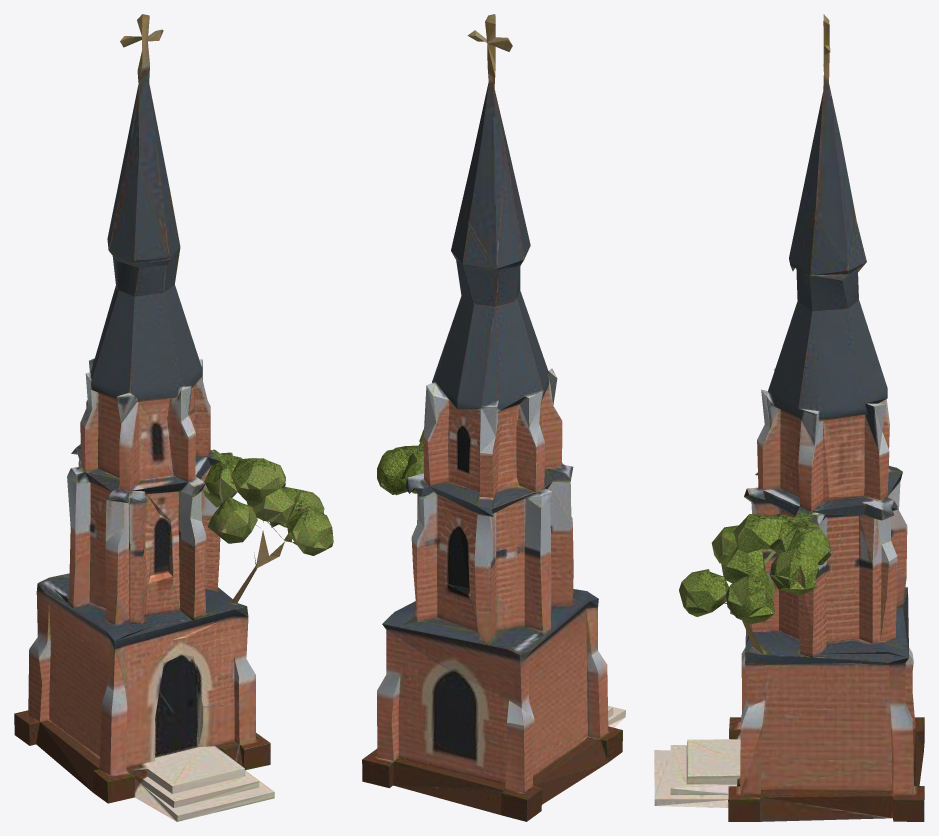
File: farChurch.glb
3 views of the same model, side by side, from view 1: azimuth 30°, elevation 25°; view 2: azimuth 150°, elevation 25°; view 3: azimuth 270°, elevation 25° (orthographic). The views are drawn at different scales.
Bounding box in the file's own units: 0.6016 × 1.9 × 0.6076.
Materials: 1 (1 with a texture image).
